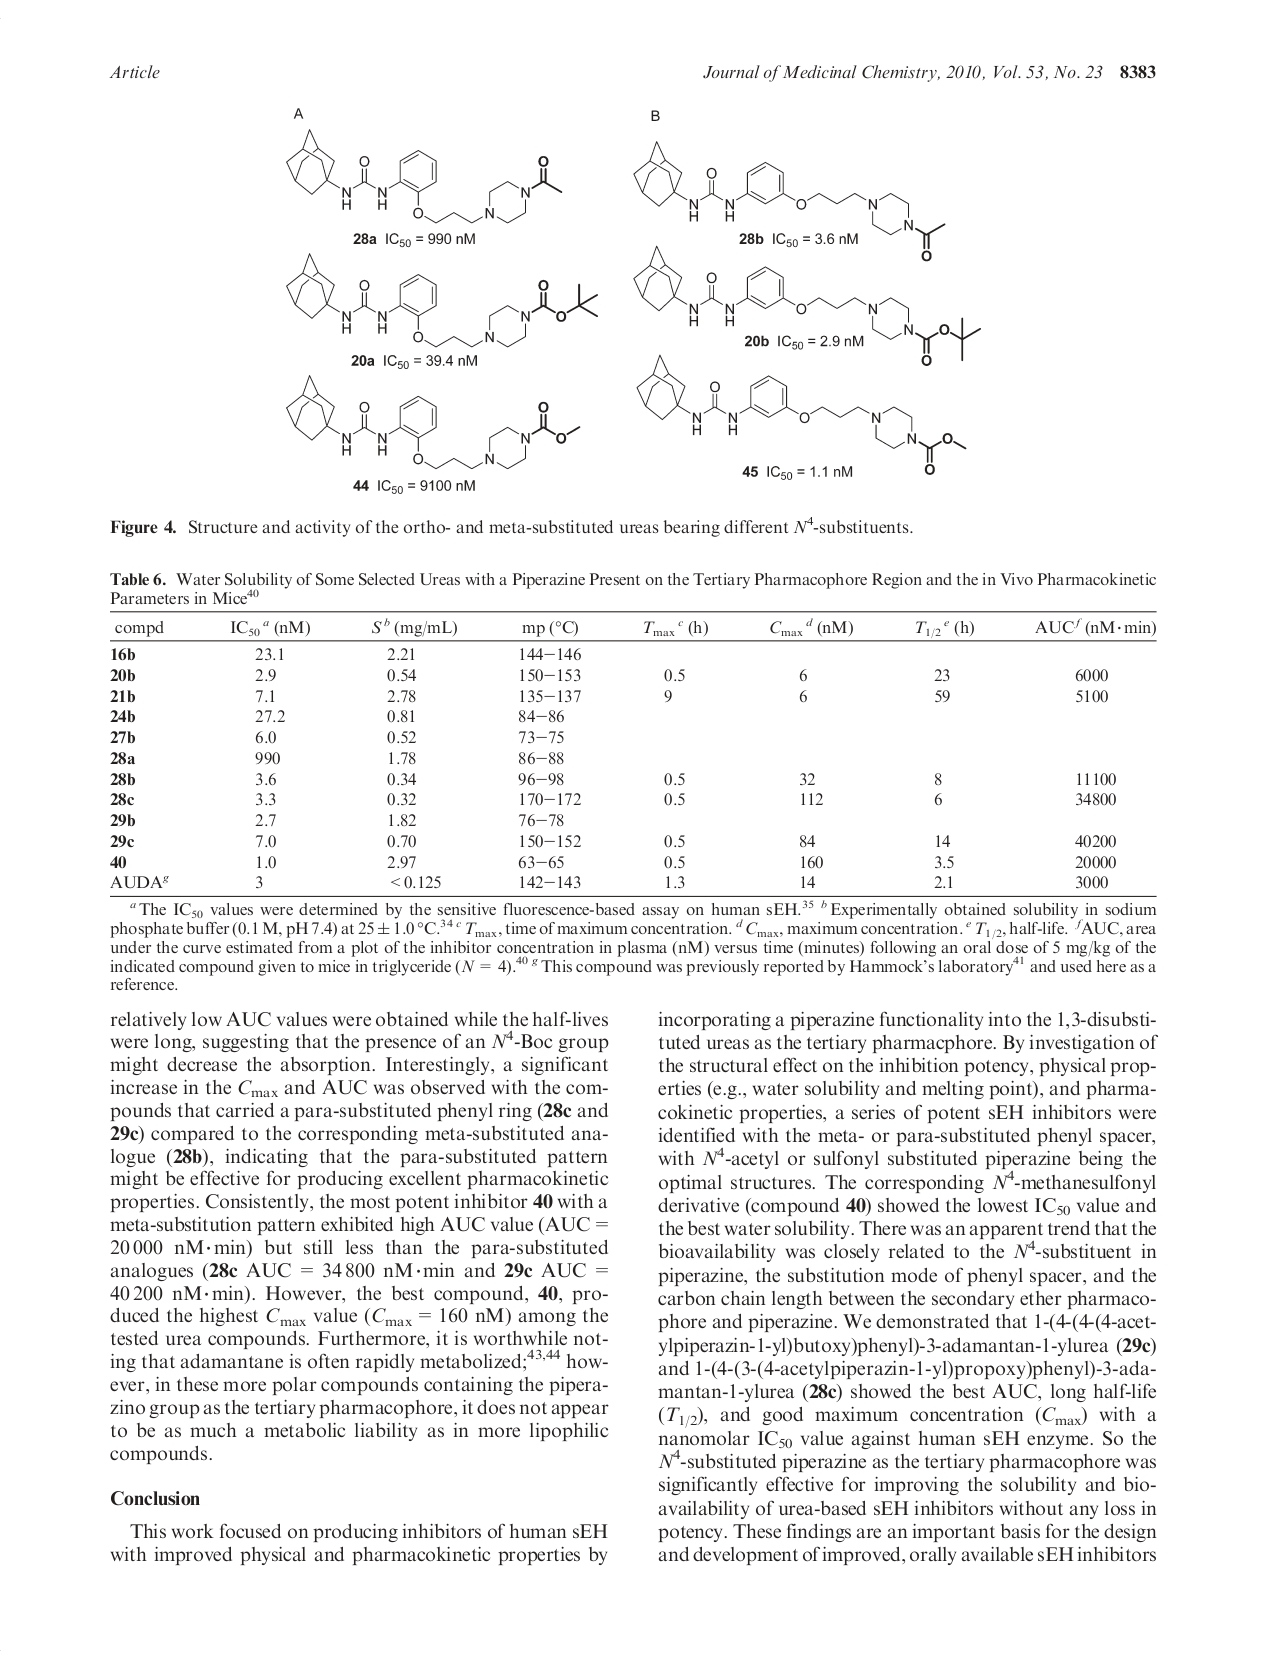exist_molecular: (630, 246, 983, 366), (636, 355, 969, 476), (629, 140, 948, 265), (285, 251, 600, 348), (285, 126, 564, 226), (293, 376, 582, 471)
